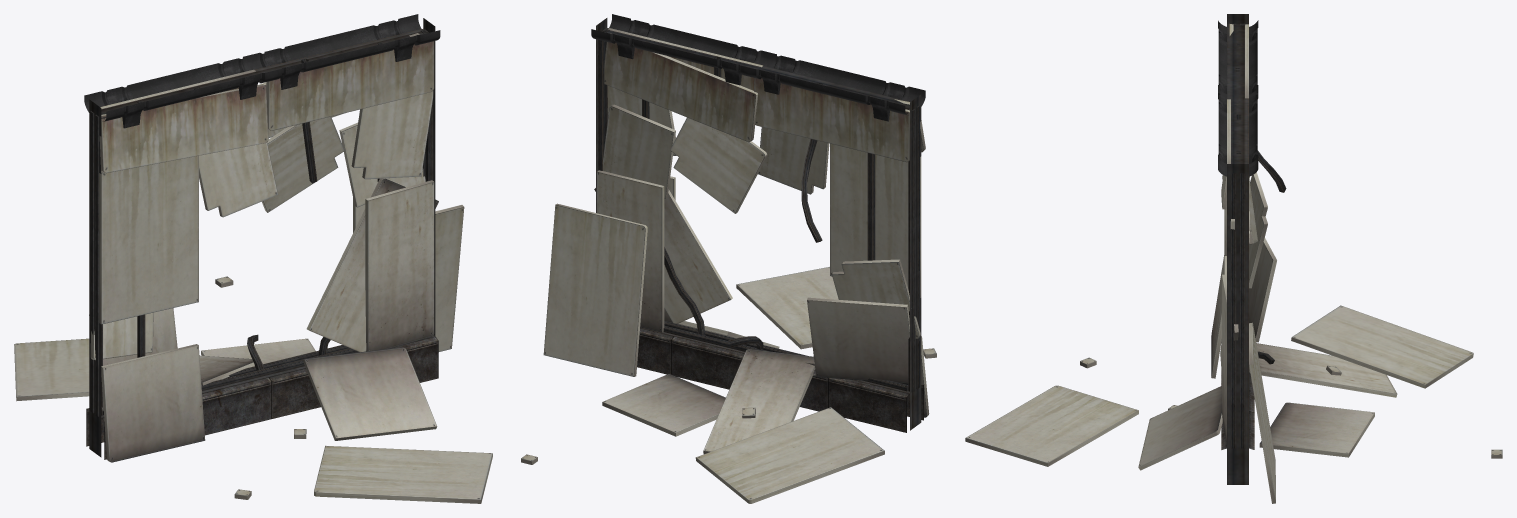
Rendered from lab_storage_room_hole_special.dae.
3 views of the same model, side by side, from view 1: azimuth 30°, elevation 25°; view 2: azimuth 150°, elevation 25°; view 3: azimuth 270°, elevation 25° (orthographic). The views are drawn at different scales.
Visible parts, largest first — view 1: storage_room_hole; view 2: storage_room_hole; view 3: storage_room_hole.
Boxes of the visible parts, x1,y1,x2,y2 form: storage_room_hole: (14,14,492,503); storage_room_hole: (521,14,936,503); storage_room_hole: (965,14,1502,503).
Size of the model in its own units: 4.77 by 4.08 by 6.06.
